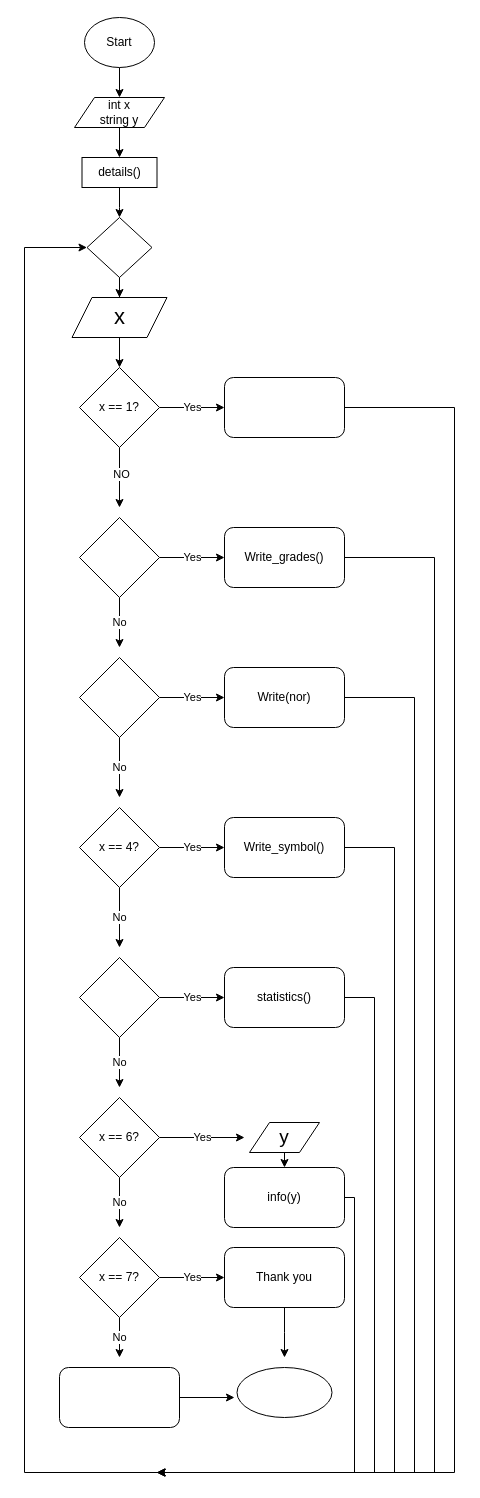
Image size: 480x1498. Some labels were removed from this diagram. Here are the shapes that lost their labels. From the top down, the centre of each, then its label:
At point 119,247: "while (true)".
At point 284,407: "Write_data()".
At point 119,557: "x == 2?".
At point 119,697: "x == 3?".
At point 119,997: "x == 5?".
At point 119,1397: "Your number is not correct please try again.".
At point 284,1392: "End".
